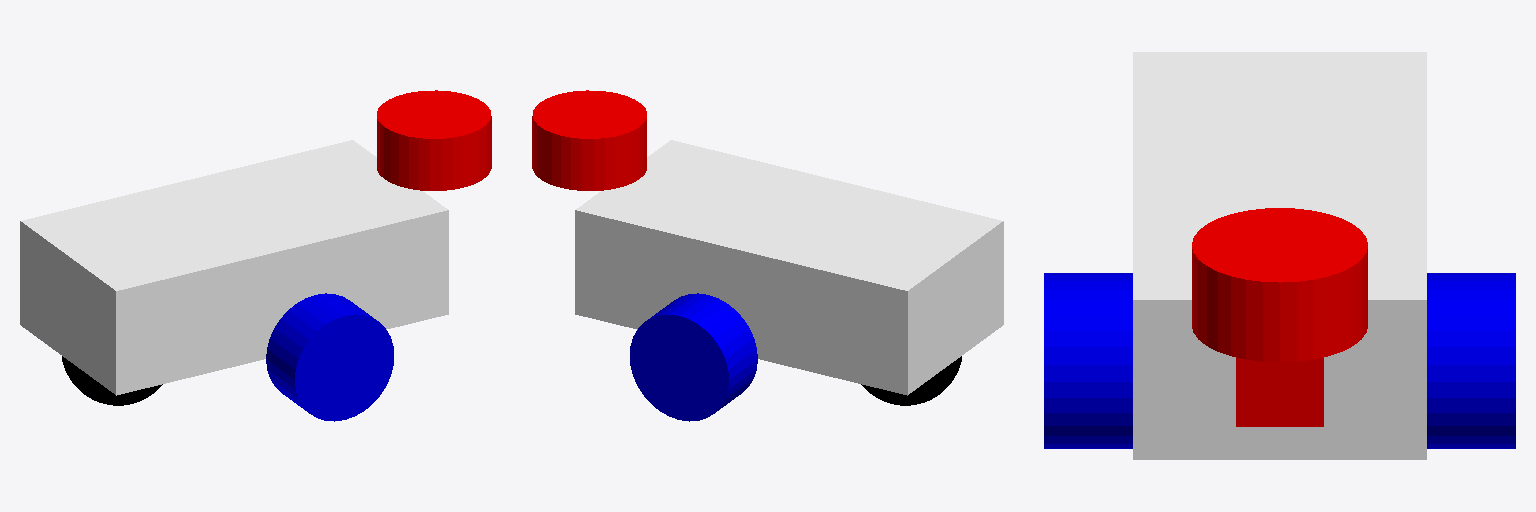
URDF robot description (urdf_tutorial):
<?xml version="1.0" ?>
<!-- =================================================================================== -->
<!-- |    This document was autogenerated by xacro from [local-path]/CV25/urdf_tutorial/urdf/robot.xacro | -->
<!-- |    EDITING THIS FILE BY HAND IS NOT RECOMMENDED                                 | -->
<!-- =================================================================================== -->
<robot name="urdf_tutorial">
  <!-- Specify some standard inertial calculations https://en.wikipedia.org/wiki/List_of_moments_of_inertia -->
  <!-- These make use of xacro's mathematical functionality -->
  <!-- COLOR -->
  <material name="white">
    <color rgba="1 1 1 1"/>
  </material>
  <material name="blue">
    <color rgba="0 0 1 1"/>
  </material>
  <material name="black">
    <color rgba="0 0 0 1"/>
  </material>
  <material name="red">
    <color rgba="1 0 0 1"/>
  </material>
  <!-- BASE LINK -->
  <link name="base_link">
    </link>
  <!-- BODY LINK -->
  <joint name="body_joint" type="fixed">
    <parent link="base_link"/>
    <child link="body"/>
    <origin xyz="-0.12 0 0"/>
  </joint>
  <link name="body">
    <visual>
      <origin xyz="0.1 0 0.03"/>
      <geometry>
        <box size="0.2 0.1 0.06"/>
      </geometry>
      <material name="white"/>
    </visual>
    <collision>
      <origin xyz="0.1 0 0.03"/>
      <geometry>
        <box size="0.2 0.1 0.06"/>
      </geometry>
    </collision>
    <inertial>
      <origin rpy="0 0 0" xyz="0.1 0 0.03"/>
      <mass value="0.5"/>
      <inertia ixx="0.0005666666666666667" ixy="0.0" ixz="0.0" iyy="0.001816666666666667" iyz="0.0" izz="0.0020833333333333337"/>
    </inertial>
  </link>
  <gazebo reference="body">
    <material>Gazebo/White</material>
  </gazebo>
  <!-- LEFT WHEEL LINK -->
  <joint name="left_wheel_joint" type="continuous">
    <parent link="base_link"/>
    <child link="left_wheel"/>
    <origin rpy="-1.5707963267948966 0 0" xyz="0 0.065 0"/>
    <axis xyz="0 0 1"/>
  </joint>
  <link name="left_wheel">
    <visual>
      <geometry>
        <cylinder length="0.03" radius="0.03"/>
      </geometry>
      <material name="blue"/>
    </visual>
    <collision>
      <geometry>
        <cylinder length="0.03" radius="0.03"/>
      </geometry>
    </collision>
    <inertial>
      <origin rpy="0 0 0" xyz="0 0 0"/>
      <mass value="0.1"/>
      <inertia ixx="2.9999999999999997e-05" ixy="0.0" ixz="0.0" iyy="2.9999999999999997e-05" iyz="0.0" izz="4.5e-05"/>
    </inertial>
  </link>
  <gazebo reference="left_wheel">
    <material>Gazebo/Black</material>
  </gazebo>
  <!-- RIGHT WHEEL LINK -->
  <joint name="right_wheel_joint" type="continuous">
    <parent link="base_link"/>
    <child link="right_wheel"/>
    <origin rpy="1.5707963267948966 0 0" xyz="0 -0.065 0"/>
    <axis xyz="0 0 -1"/>
  </joint>
  <link name="right_wheel">
    <visual>
      <geometry>
        <cylinder length="0.03" radius="0.03"/>
      </geometry>
      <material name="blue"/>
    </visual>
    <collision>
      <geometry>
        <cylinder length="0.03" radius="0.03"/>
      </geometry>
    </collision>
    <inertial>
      <origin rpy="0 0 0" xyz="0 0 0"/>
      <mass value="0.1"/>
      <inertia ixx="2.9999999999999997e-05" ixy="0.0" ixz="0.0" iyy="2.9999999999999997e-05" iyz="0.0" izz="4.5e-05"/>
    </inertial>
  </link>
  <gazebo reference="right_wheel">
    <material>Gazebo/Black</material>
  </gazebo>
  <!-- CASTER WHEEL LINK -->
  <joint name="caster_wheel_joint" type="fixed">
    <parent link="body"/>
    <child link="caster_wheel"/>
    <origin xyz="0.03 0 0"/>
  </joint>
  <link name="caster_wheel">
    <visual>
      <geometry>
        <sphere radius="0.03"/>
      </geometry>
      <material name="black"/>
    </visual>
    <collision>
      <geometry>
        <sphere radius="0.03"/>
      </geometry>
    </collision>
    <inertial>
      <origin rpy="0 0 0" xyz="0 0 0"/>
      <mass value="0.1"/>
      <inertia ixx="3.600000000000001e-05" ixy="0.0" ixz="0.0" iyy="3.600000000000001e-05" iyz="0.0" izz="3.600000000000001e-05"/>
    </inertial>
  </link>
  <gazebo reference="caster_wheel">
    <material>Gazebo/Blue</material>
    <mu1 value="0.001"/>
    <mu2 value="0.001"/>
  </gazebo>
  <!-- LiDAR -->
  <joint name="laser_joint" type="fixed">
    <parent link="base_link"/>
    <child link="laser_frame"/>
    <origin rpy="0 0 0" xyz="0.1 0 0.075"/>
  </joint>
  <link name="laser_frame">
    <visual>
      <geometry>
        <cylinder length="0.03" radius="0.03"/>
      </geometry>
      <material name="red"/>
    </visual>
    <collision>
      <geometry>
        <cylinder length="0.03" radius="0.03"/>
      </geometry>
    </collision>
  </link>
  <!-- CAMERA -->
  <joint name="camera_joint" type="fixed">
    <parent link="body"/>
    <child link="camera_link"/>
    <origin rpy="0 0 0" xyz="0.20 0 0.03"/>
  </joint>
  <link name="camera_link">
    <visual>
      <geometry>
        <box size="0.01 0.03 0.03"/>
      </geometry>
      <material name="red"/>
    </visual>
    <collision>
      <geometry>
        <box size="0.01 0.03 0.03"/>
      </geometry>
    </collision>
  </link>
  <joint name="camera_optical_joint" type="fixed">
    <parent link="camera_link"/>
    <child link="camera_link_optical"/>
    <origin rpy="-1.5707963267948966 0 -1.5707963267948966" xyz="0 0 0"/>
  </joint>
  <link name="camera_link_optical">
    </link>
  <gazebo>
    <plugin filename="libgazebo_ros_diff_drive.so" name="diff_drive">
      <!-- Wheel Information -->
      <left_joint>left_wheel_joint</left_joint>
      <right_joint>right_wheel_joint</right_joint>
      <wheel_separation>0.35</wheel_separation>
      <wheel_diameter>0.1</wheel_diameter>
      <!-- Limits -->
      <max_wheel_torque>200</max_wheel_torque>
      <max_wheel_acceleration>10.0</max_wheel_acceleration>
      <!-- Output -->
      <odometry_frame>odom</odometry_frame>
      <robot_base_frame>base_link</robot_base_frame>
      <publish_odom>true</publish_odom>
      <publish_odom_tf>true</publish_odom_tf>
      <publish_wheel_tf>true</publish_wheel_tf>
    </plugin>
  </gazebo>
  <gazebo reference="laser_frame">
    <material>Gazebo/Red</material>
    <sensor name="laser" type="ray">
      <pose>0 0 0 0 0 0</pose>
      <visualize>true</visualize>
      <update_rate>10</update_rate>
      <ray>
        <scan>
          <horizontal>
            <samples>360</samples>
            <min_angle>-3.14</min_angle>
            <max_angle>3.14</max_angle>
          </horizontal>
        </scan>
        <range>
          <min>0.3</min>
          <max>12</max>
        </range>
      </ray>
      <plugin filename="libgazebo_ros_ray_sensor.so" name="laser_controller">
        <ros>
          <argument>~/out:=scan</argument>
        </ros>
        <output_type>sensor_msgs/LaserScan</output_type>
        <frame_name>laser_frame</frame_name>
      </plugin>
    </sensor>
  </gazebo>
  <gazebo reference="camera_link">
    <material>Gazebo/Red</material>
    <sensor name="camera" type="camera">
      <pose>0 0 0 0 0 0</pose>
      <visualize>true</visualize>
      <update_rate>10</update_rate>
      <camera>
        <horizontal_fov>1.089</horizontal_fov>
        <image>
          <format>B8G8R8</format>
          <width>640</width>
          <height>480</height>
        </image>
        <clip>
          <near>0.05</near>
          <far>8.0</far>
        </clip>
      </camera>
      <plugin filename="libgazebo_ros_camera.so" name="camera_controller">
        <ros>
          <namespace>/camera</namespace>
          <argument>image_raw</argument>
        </ros>
        <frame_name>camera_link_optical</frame_name>
        <min_depth>0.1</min_depth>
        <max_depth>100.0</max_depth>
      </plugin>
    </sensor>
  </gazebo>
<!-- IMU 센서를 위한 링크 -->
<link name="imu_link">
    <inertial>
        <mass value="0.1"/>
        <origin xyz="0 0 0.1" />
        <inertia ixx="0.0001" ixy="0.0" ixz="0.0" iyy="0.0001" iyz="0.0" izz="0.0001"/>
    </inertial>
</link>


  <!-- IMU 센서를 부착할 조인트 -->
  <joint name="imu_joint" type="fixed">
    <parent link="base_link"/>
    <child link="imu_link"/>
    <origin xyz="0 0 0.1"/>
  </joint>

  <!-- IMU Sensor 설정 (Gazebo에서) -->
  <gazebo reference="imu_link">
    <sensor name="imu_sensor" type="imu">
        <always_on>1</always_on>
        <update_rate>50</update_rate>
        <imu>
            <angular_velocity>true</angular_velocity>
            <linear_acceleration>true</linear_acceleration>
            <orientation>true</orientation>
        </imu>
    </sensor>
  </gazebo>

  <!-- ROS 2 Control을 위한 IMU Sensor Broadcaster -->
  <ros2_control name="imu_sensor_broadcaster" type="sensor">
      <hardware>
          <plugin>imu_sensor_broadcaster/ImuSensorBroadcaster</plugin>
      </hardware>
      <sensor name="imu_sensor">
          <type>sensor_msgs/msg/Imu</type>
          <frame_id>imu_link</frame_id>
      </sensor>
  </ros2_control>
</robot>

--- Render facts (derived) ---
The picture shows the robot from 3 angles, left to right: view 1: azimuth 30°, elevation 25°; view 2: azimuth 150°, elevation 25°; view 3: azimuth 270°, elevation 25°; orthographic projection.
Robot: urdf_tutorial — 9 links, 8 joints (2 continuous, 6 fixed); root link base_link; default pose: all joints at 0.
Visible links, largest first — view 1: body, right_wheel, laser_frame, caster_wheel; view 2: body, left_wheel, laser_frame, caster_wheel; view 3: body, laser_frame, left_wheel, right_wheel, camera_link.
Boxes of the visible links, box(x1,y1,x2,y2) form: body: box(20, 140, 448, 395); right_wheel: box(266, 293, 393, 421); laser_frame: box(377, 90, 491, 190); caster_wheel: box(62, 356, 162, 405); body: box(575, 140, 1003, 395); left_wheel: box(630, 293, 757, 421); laser_frame: box(532, 90, 646, 190); caster_wheel: box(861, 356, 961, 405); body: box(1133, 52, 1426, 459); laser_frame: box(1192, 208, 1367, 362); left_wheel: box(1427, 273, 1515, 448); right_wheel: box(1044, 273, 1132, 448); camera_link: box(1236, 358, 1323, 426).
Bounding box of the posed robot: 0.25 × 0.16 × 0.12 m (x, y, z).
Geometry: primitives only (box / cylinder / sphere), no mesh files.
